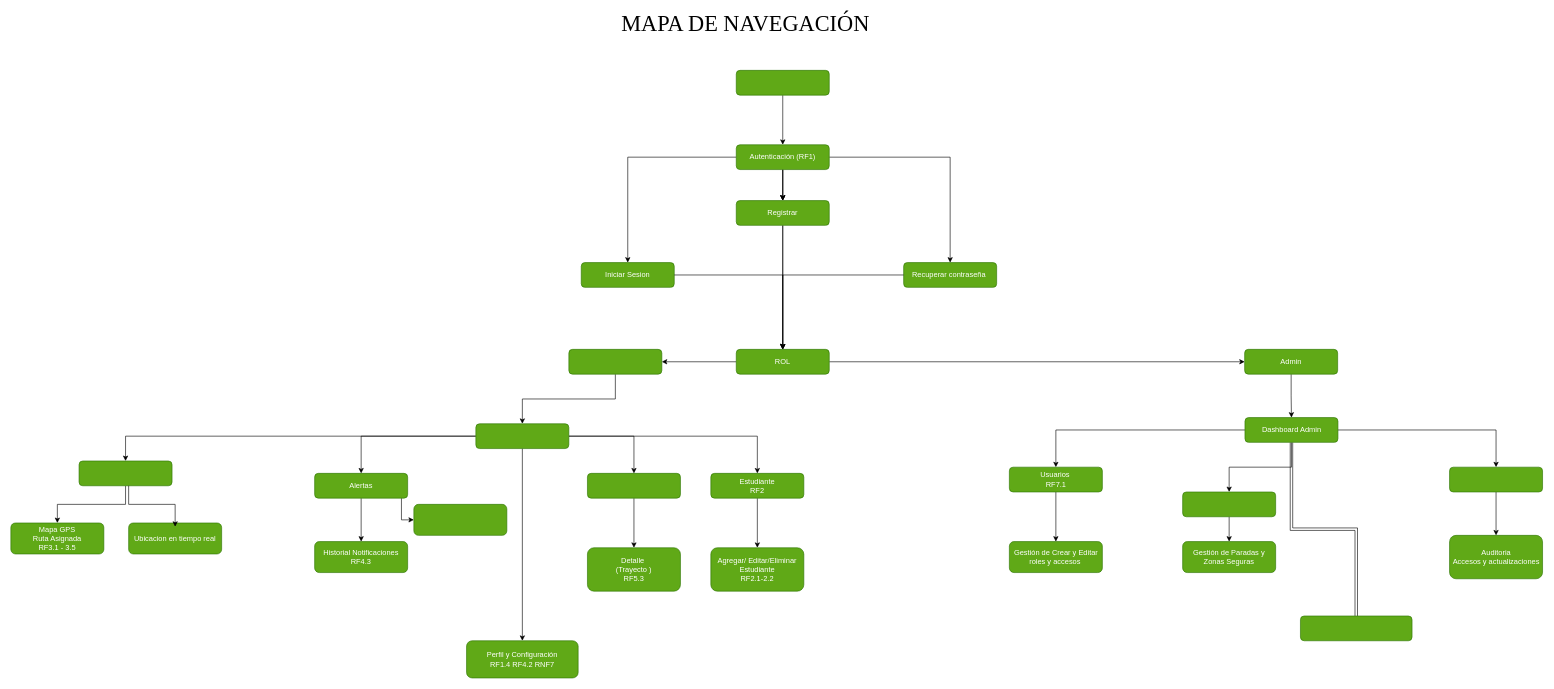
This 1554x689 diagram has some shape labels left out. Each missing label, with the centre of its shape:
"Dashboard Principal" goes at (x=522, y=436).
"Historial RF5" goes at (x=633, y=485).
"Notificaciones Push RF4" goes at (x=460, y=519).
"Padre de Familia" goes at (x=615, y=361).
"Pantalla de Inicio" goes at (x=782, y=82).
"Perfil y Configuración" goes at (x=1356, y=628).
"Rastreo" goes at (x=125, y=473).
"Reportes RF7.2" goes at (x=1496, y=479).
"Rutas RF7.1" goes at (x=1229, y=504).
